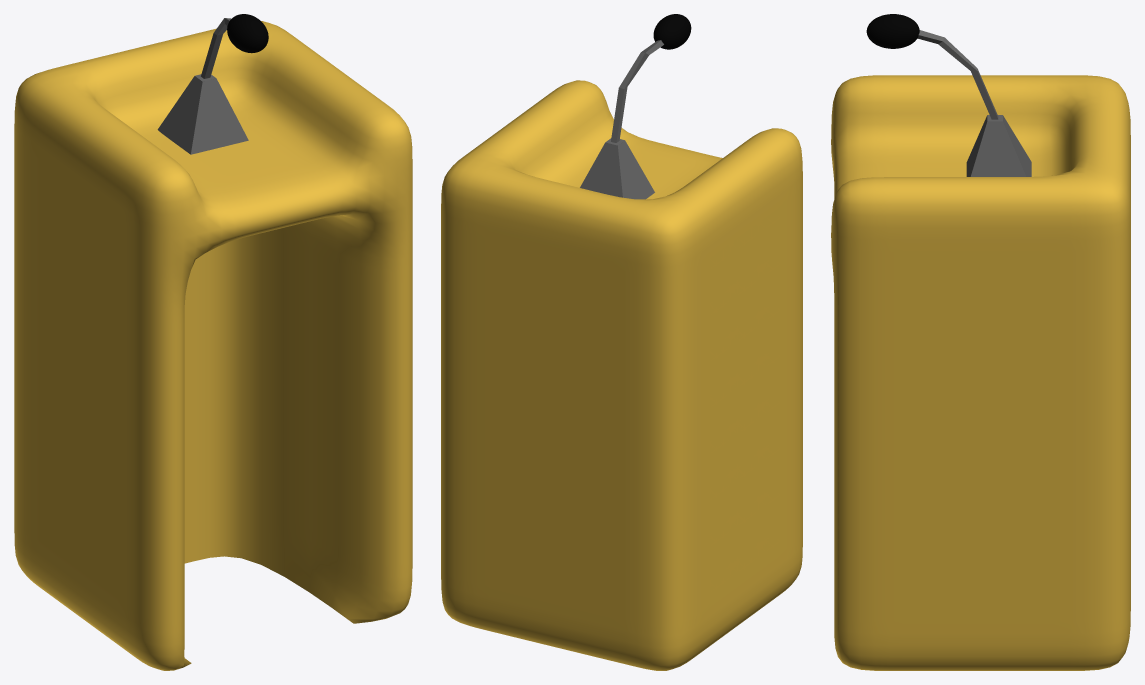
Rendered from desk 1.fbx.
The picture shows the model from 3 angles, left to right: view 1: azimuth 30°, elevation 25°; view 2: azimuth 150°, elevation 25°; view 3: azimuth 270°, elevation 25°; orthographic projection. The views are drawn at different scales.
Visible parts, largest first — view 1: Cube, Cube.001, Sphere; view 2: Cube, Cube.001, Sphere; view 3: Cube, Cube.001, Sphere.
Part boxes in pixels (bbox=[...]): Cube: bbox=[14, 21, 412, 670]; Cube.001: bbox=[157, 18, 248, 154]; Sphere: bbox=[227, 14, 268, 53]; Cube: bbox=[441, 80, 802, 670]; Cube.001: bbox=[580, 40, 663, 199]; Sphere: bbox=[653, 14, 691, 49]; Cube: bbox=[831, 75, 1130, 670]; Cube.001: bbox=[917, 30, 1031, 176]; Sphere: bbox=[866, 14, 919, 48].
Bounding box in the file's own units: 200 × 438 × 199.
